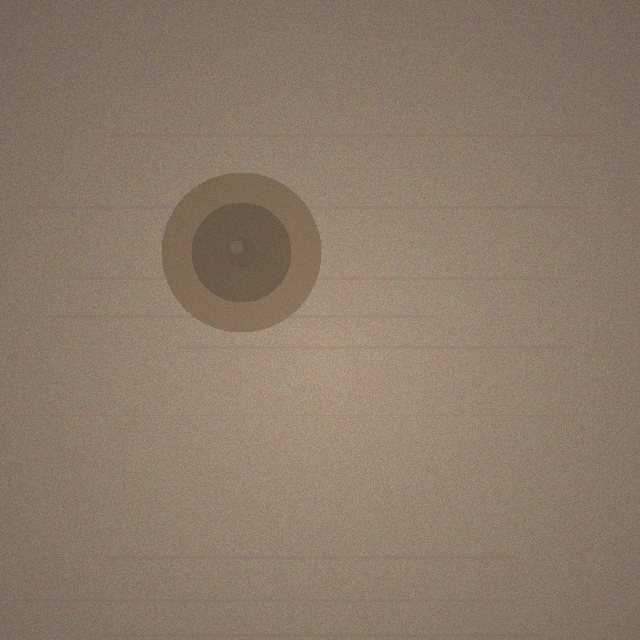good: (161, 172, 321, 332)
